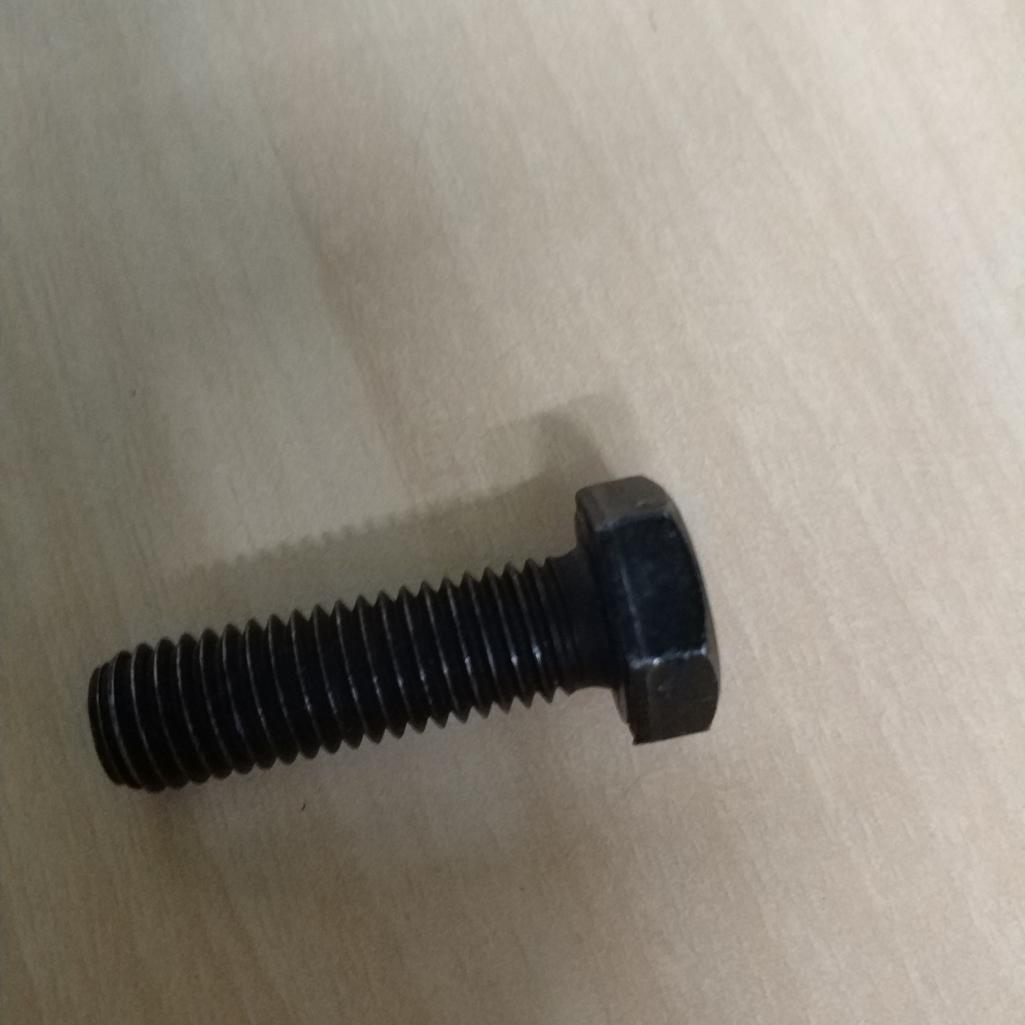screwtype2black: (71, 459, 726, 847)
